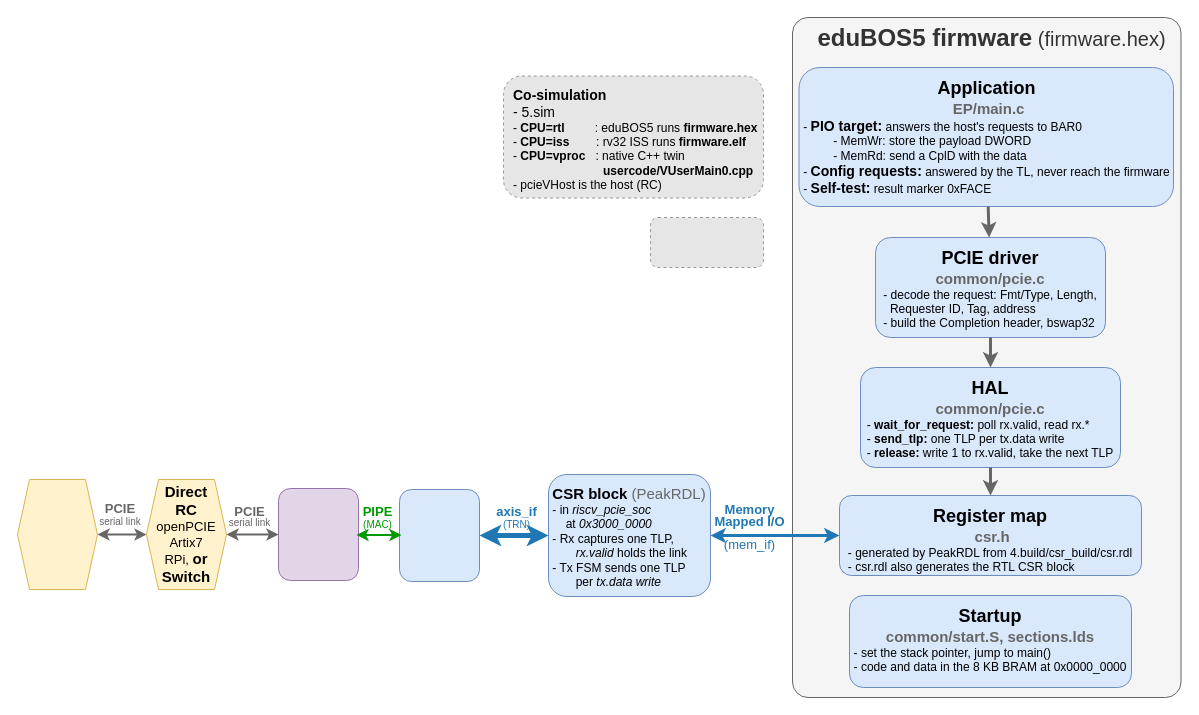
This 1199x715 diagram has some shape labels left out. The centre of each missing label's shape, as x and y in pixels:
Host Root Complex openPCIE Artix7 RPi or PC: pixel 57 534
pcie_top soft - MAC/ LTSSM - DLL - TL: pixel 439 535
phy_top - GateMate - PHY/SerDes - soft glue: pixel 318 534
SW build - 4.build/sw_build: pixel 707 242
